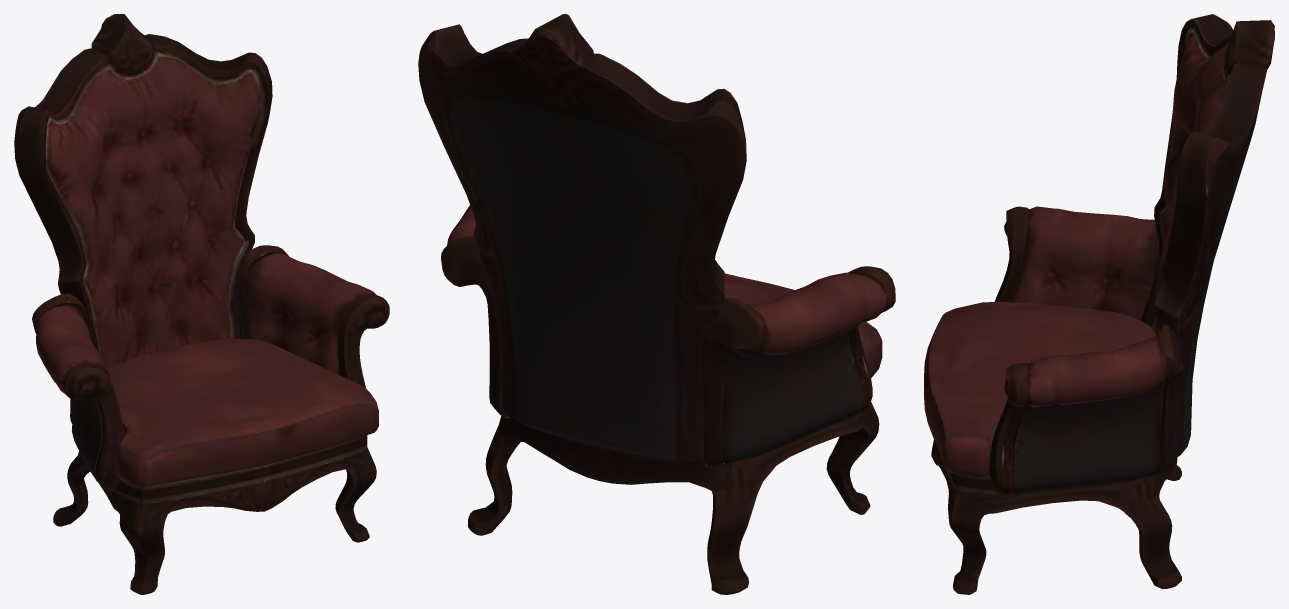
The model's file is SM_Armchair01_3ef790.glb.
The picture shows the model from 3 angles, left to right: view 1: azimuth 30°, elevation 25°; view 2: azimuth 150°, elevation 25°; view 3: azimuth 270°, elevation 25°; orthographic projection. The views are drawn at different scales.
Bounding box in the file's own units: 1.05 × 1.4 × 0.8755.
1 material, 1 textured.
